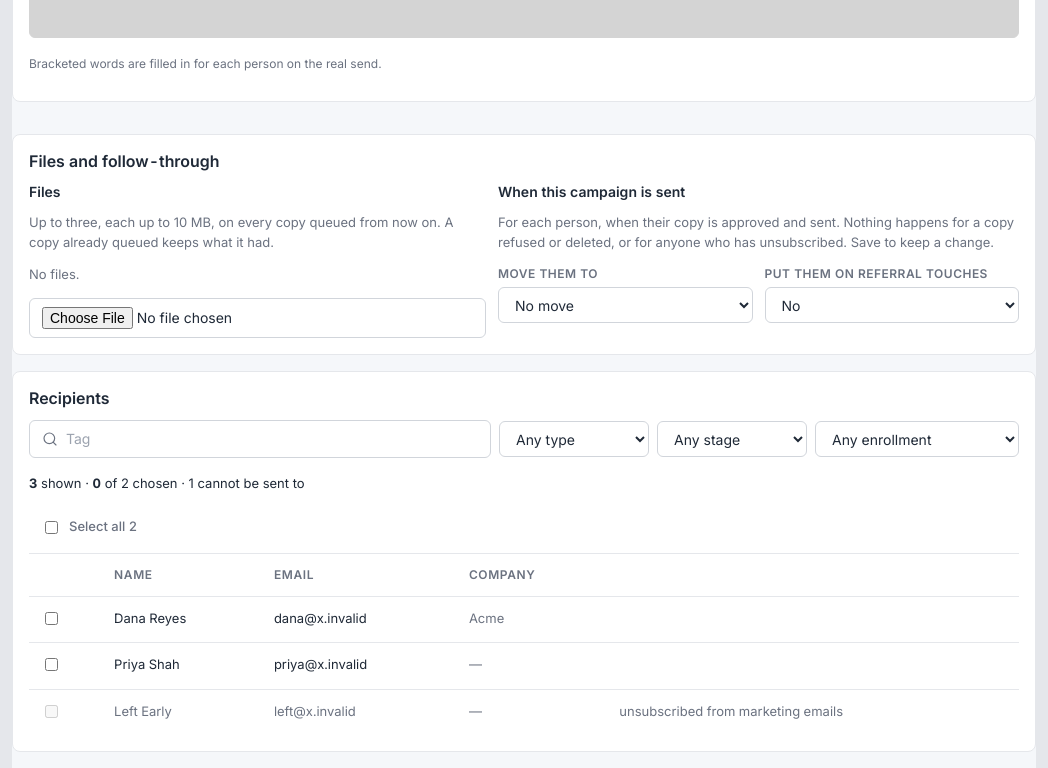
the campaign composer › queues everyone chosen, minus who was deselected and who cannot be sent to
(page scrolled)
Expected: the checkbox named "Include Left Early" is disabled, [45,705,58,718]
Expected: the text "unsubscribed from marketing emails" is shown, [607,690,1019,736]
What coordinates should you click on to do the following:
click the checkbox labelled "Select all 2"
I would click on:
 (52, 527)
Its box is [45,521,58,534].
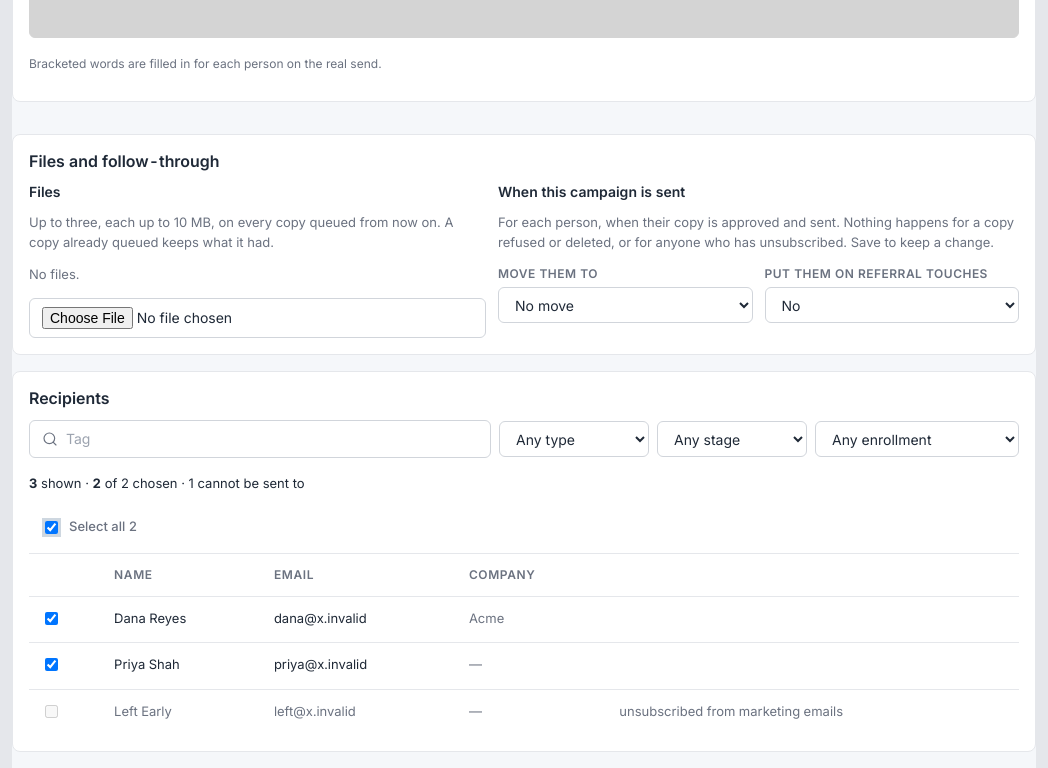
Result: the checkbox labelled "Select all 2" is checked
Result: the element named "How many" shows "2 of 2 chosen" at [29,475,305,491]
What coordinates should you click on to do the following:
click the checkbox labelled "Select all 2"
I would click on:
 (52, 527)
Its box is [45,521,58,534].
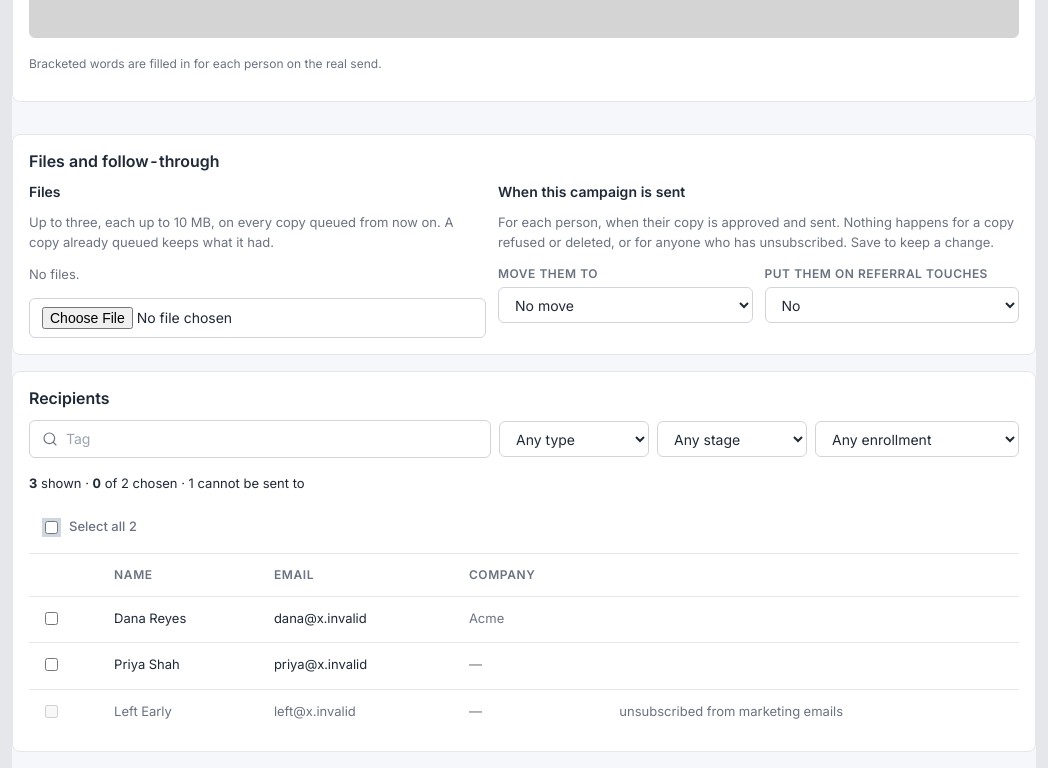
Result: the element named "How many" shows "0 of 2 chosen" at [29,475,305,491]
What coordinates should you click on to do the following:
click the checkbox labelled "Select all 2"
I would click on:
 (52, 527)
Its box is [45,521,58,534].
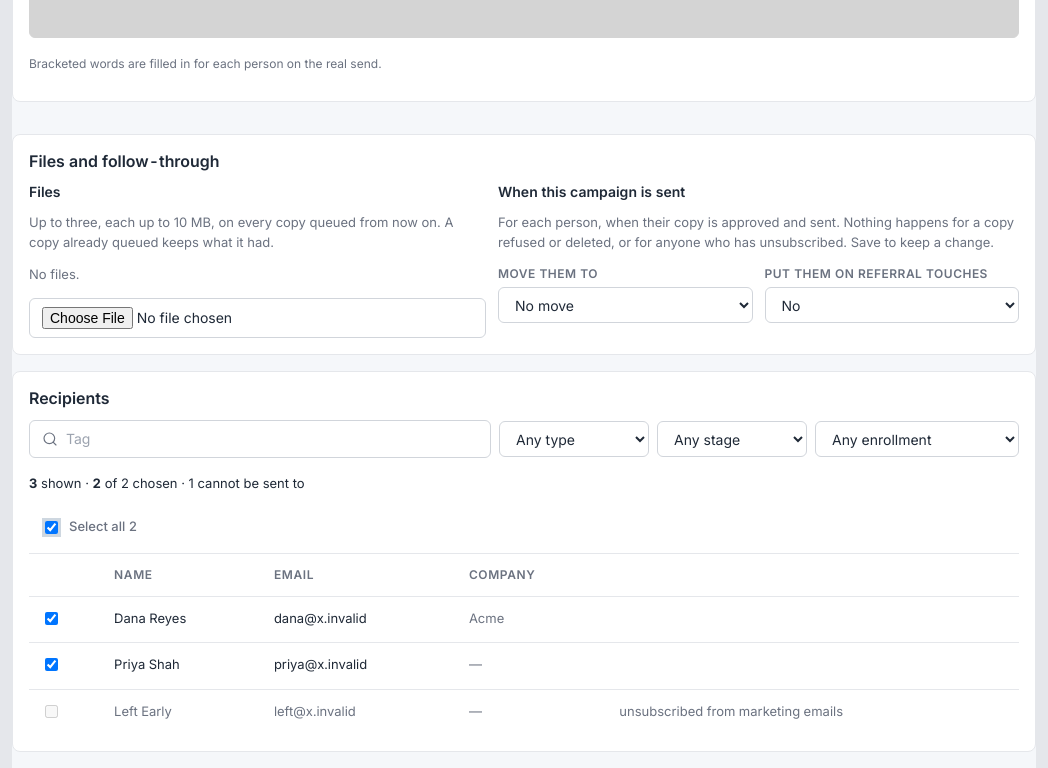
What coordinates should you click on to do the following:
click the checkbox named "Include Priya Shah"
I would click on:
 (52, 665)
Its box is [45,658,58,672].
(page scrolled)
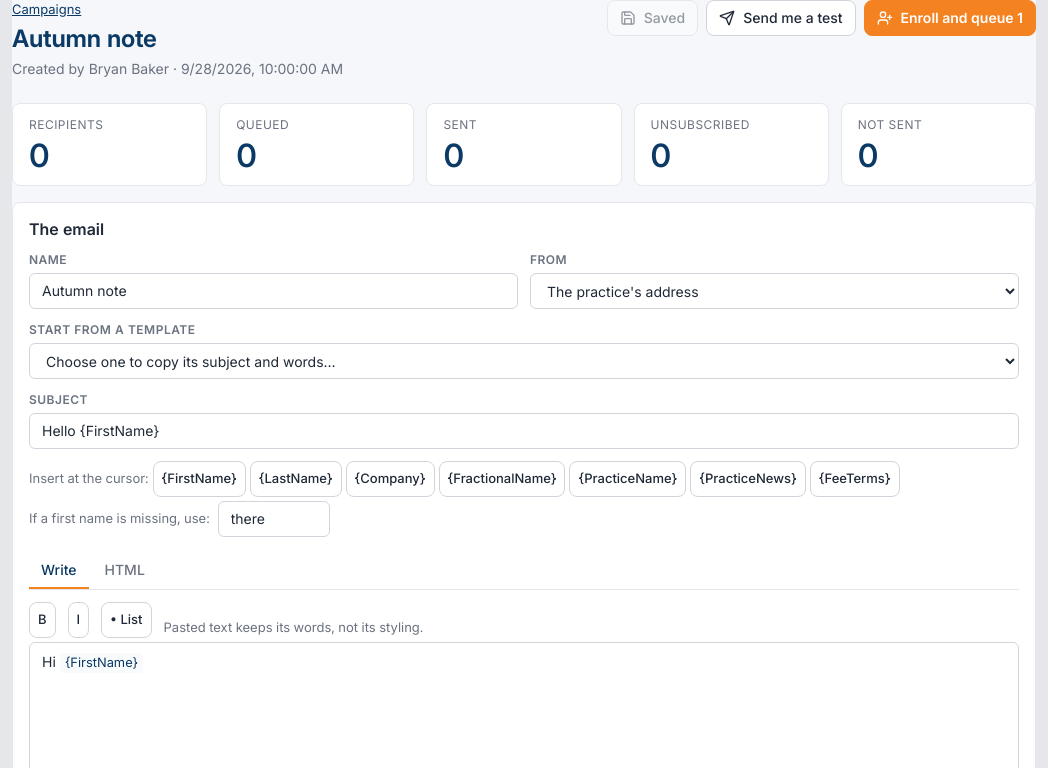
What coordinates should you click on to do the following:
click the button "Enroll and queue 1"
I would click on:
 (950, 18)
Its box is [864,0,1036,36].
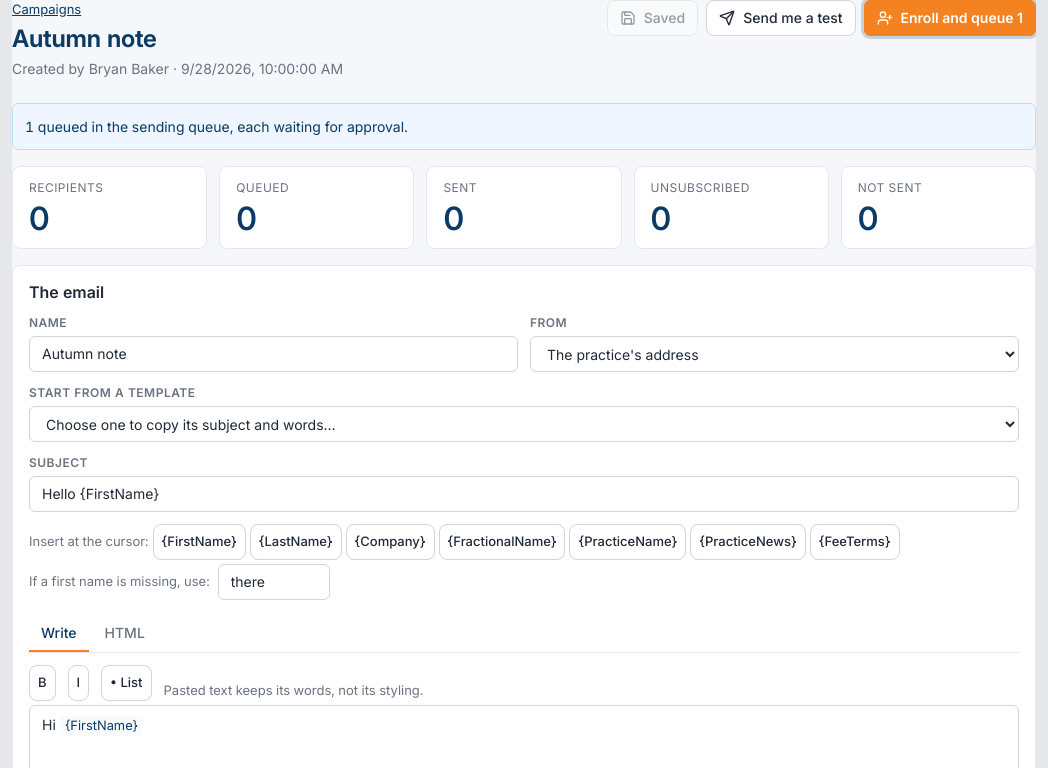
Result: the text "1 queued in the sending queue, each waiting for approval." is shown at [25,118,408,134]
